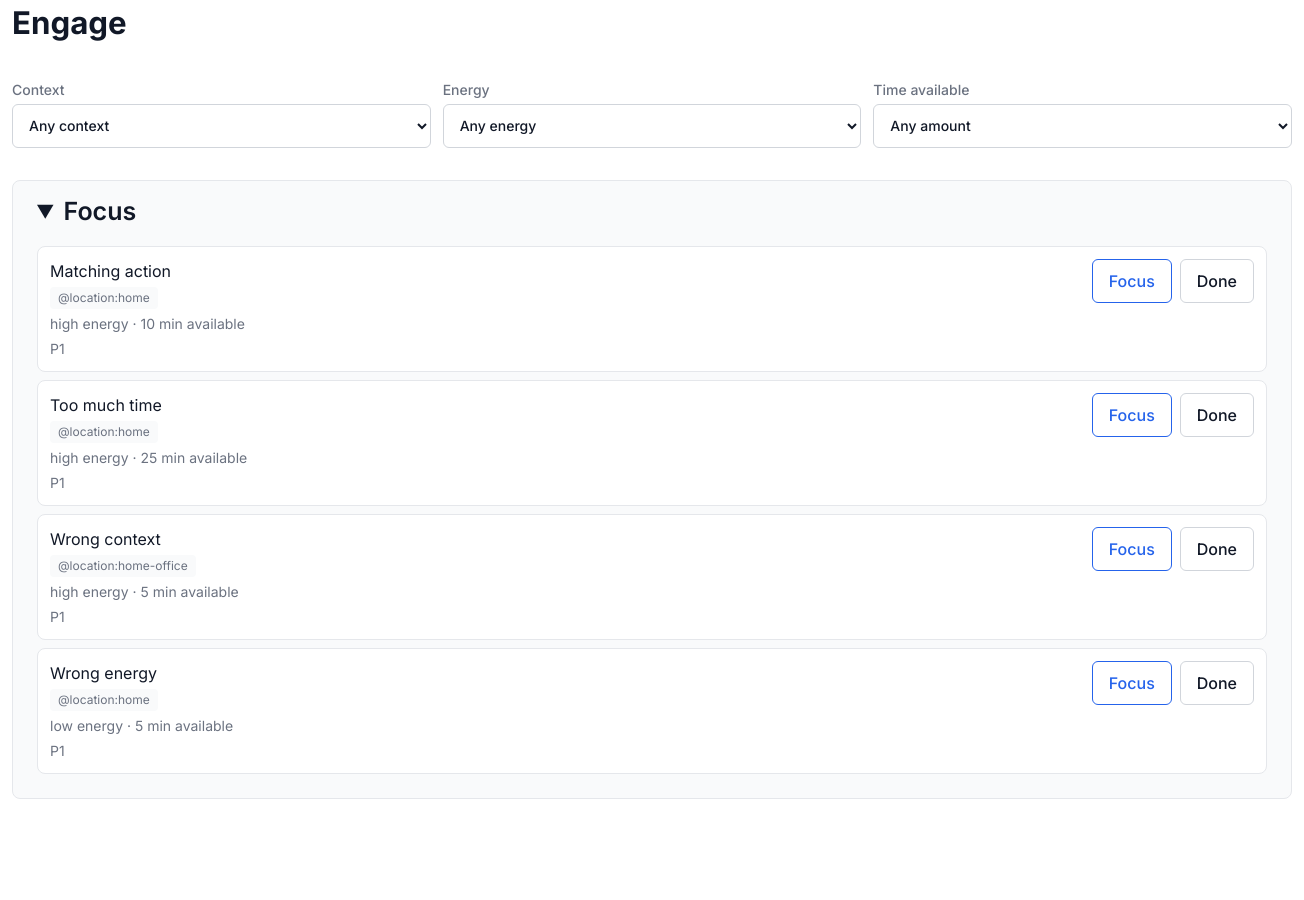
Test case: EngageBoard › combines context, energy, and maximum time filters
Select "@location:home" in the dropdown named "Filter by context" at (221, 126), box [12, 104, 431, 148]
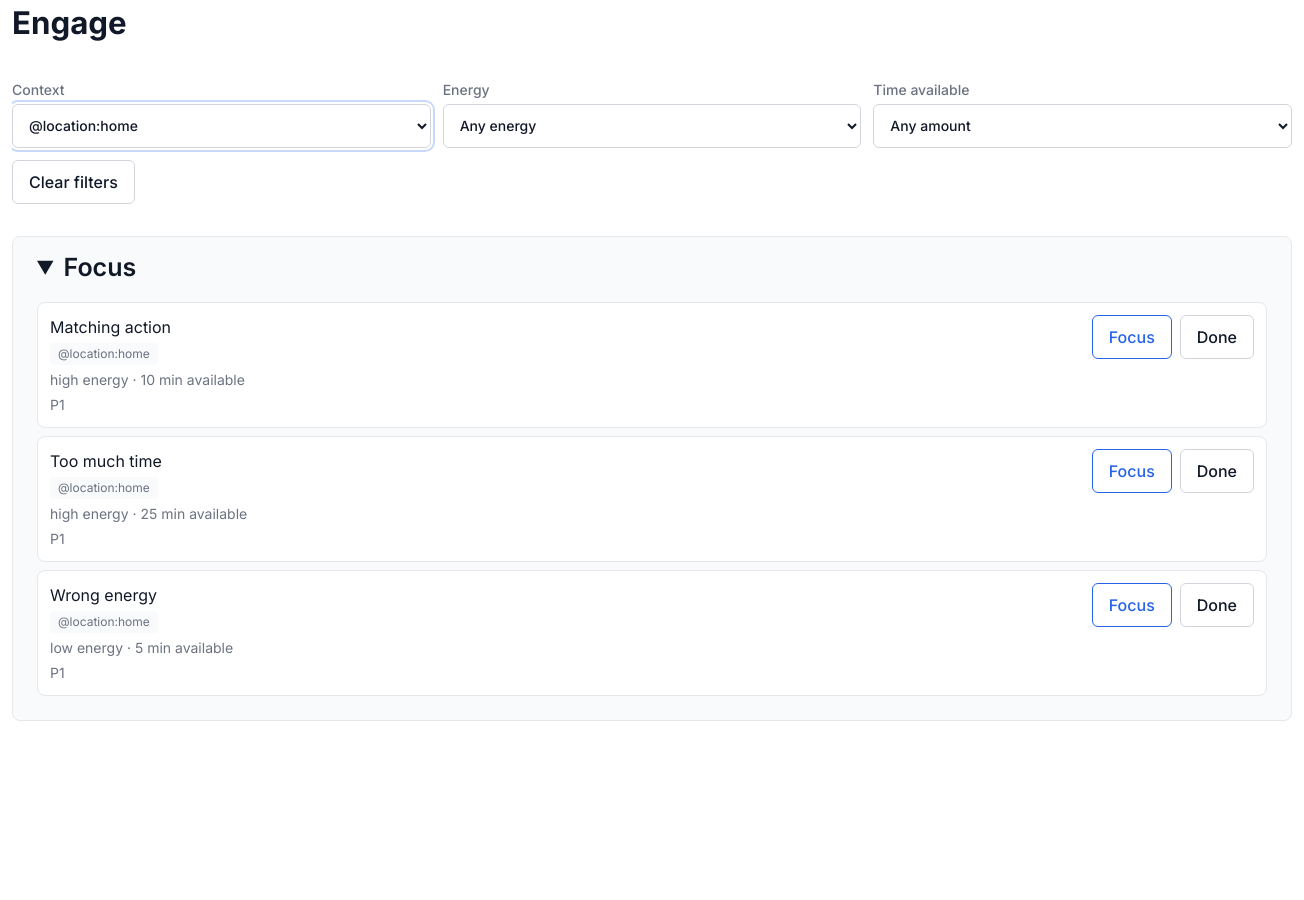
Select "high" in the dropdown named "Filter by energy" at (652, 126), box [443, 104, 861, 148]
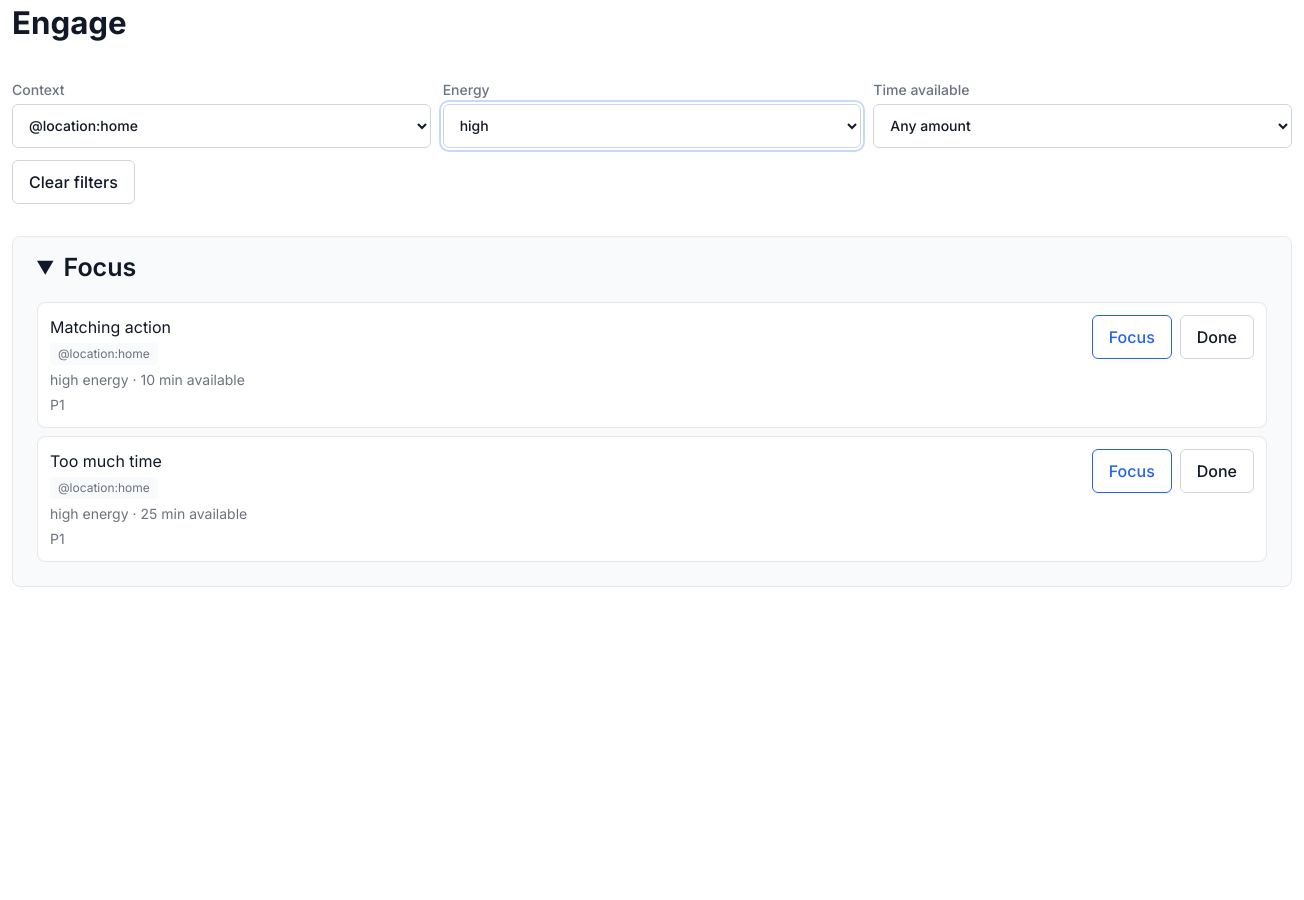
Select "10 min or less" in the dropdown named "Filter by time available" at (1083, 126), box [873, 104, 1292, 148]
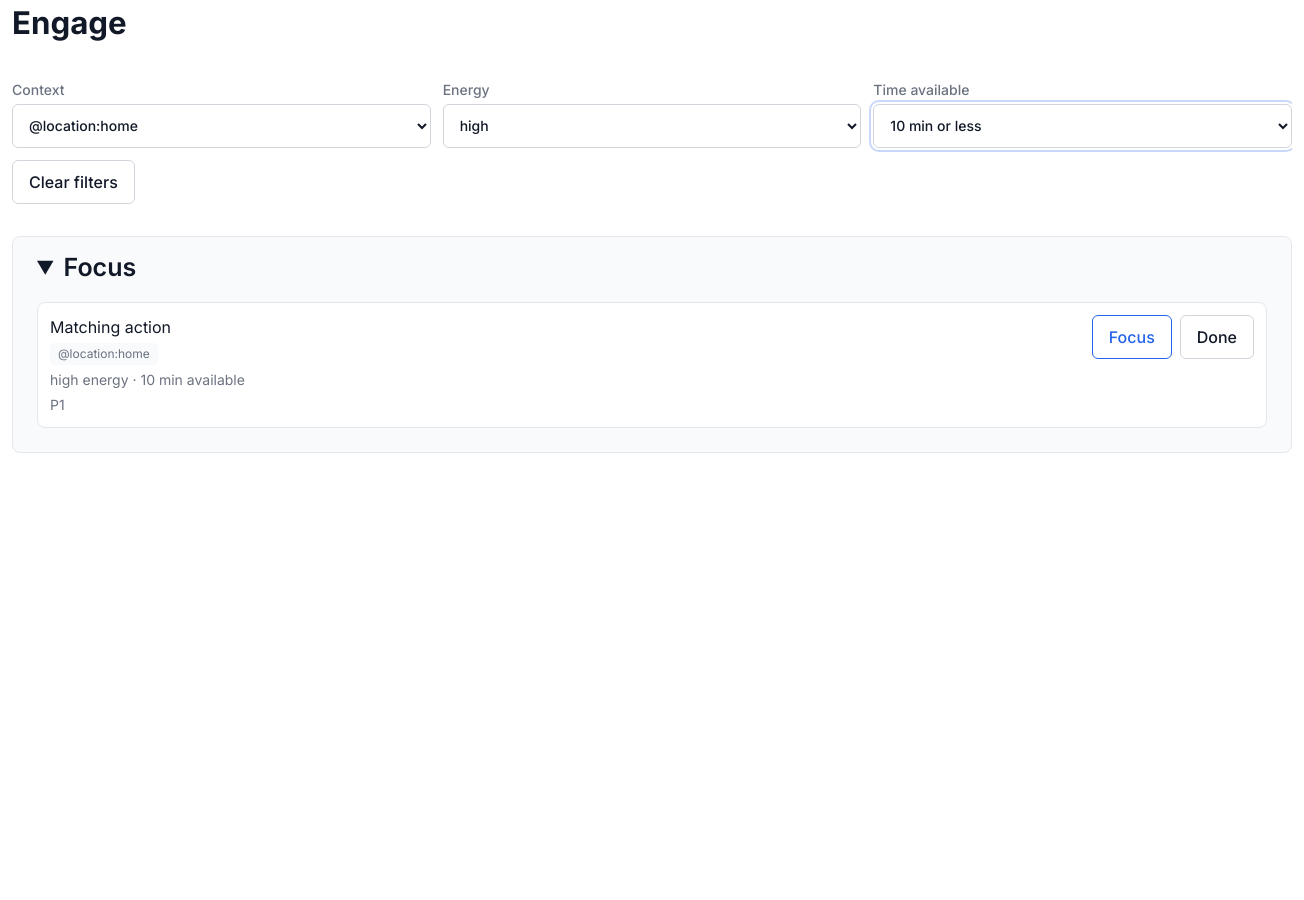
Expected: the text "Matching action" is shown, [50, 317, 171, 337]
Result: the text "Too much time" is gone
